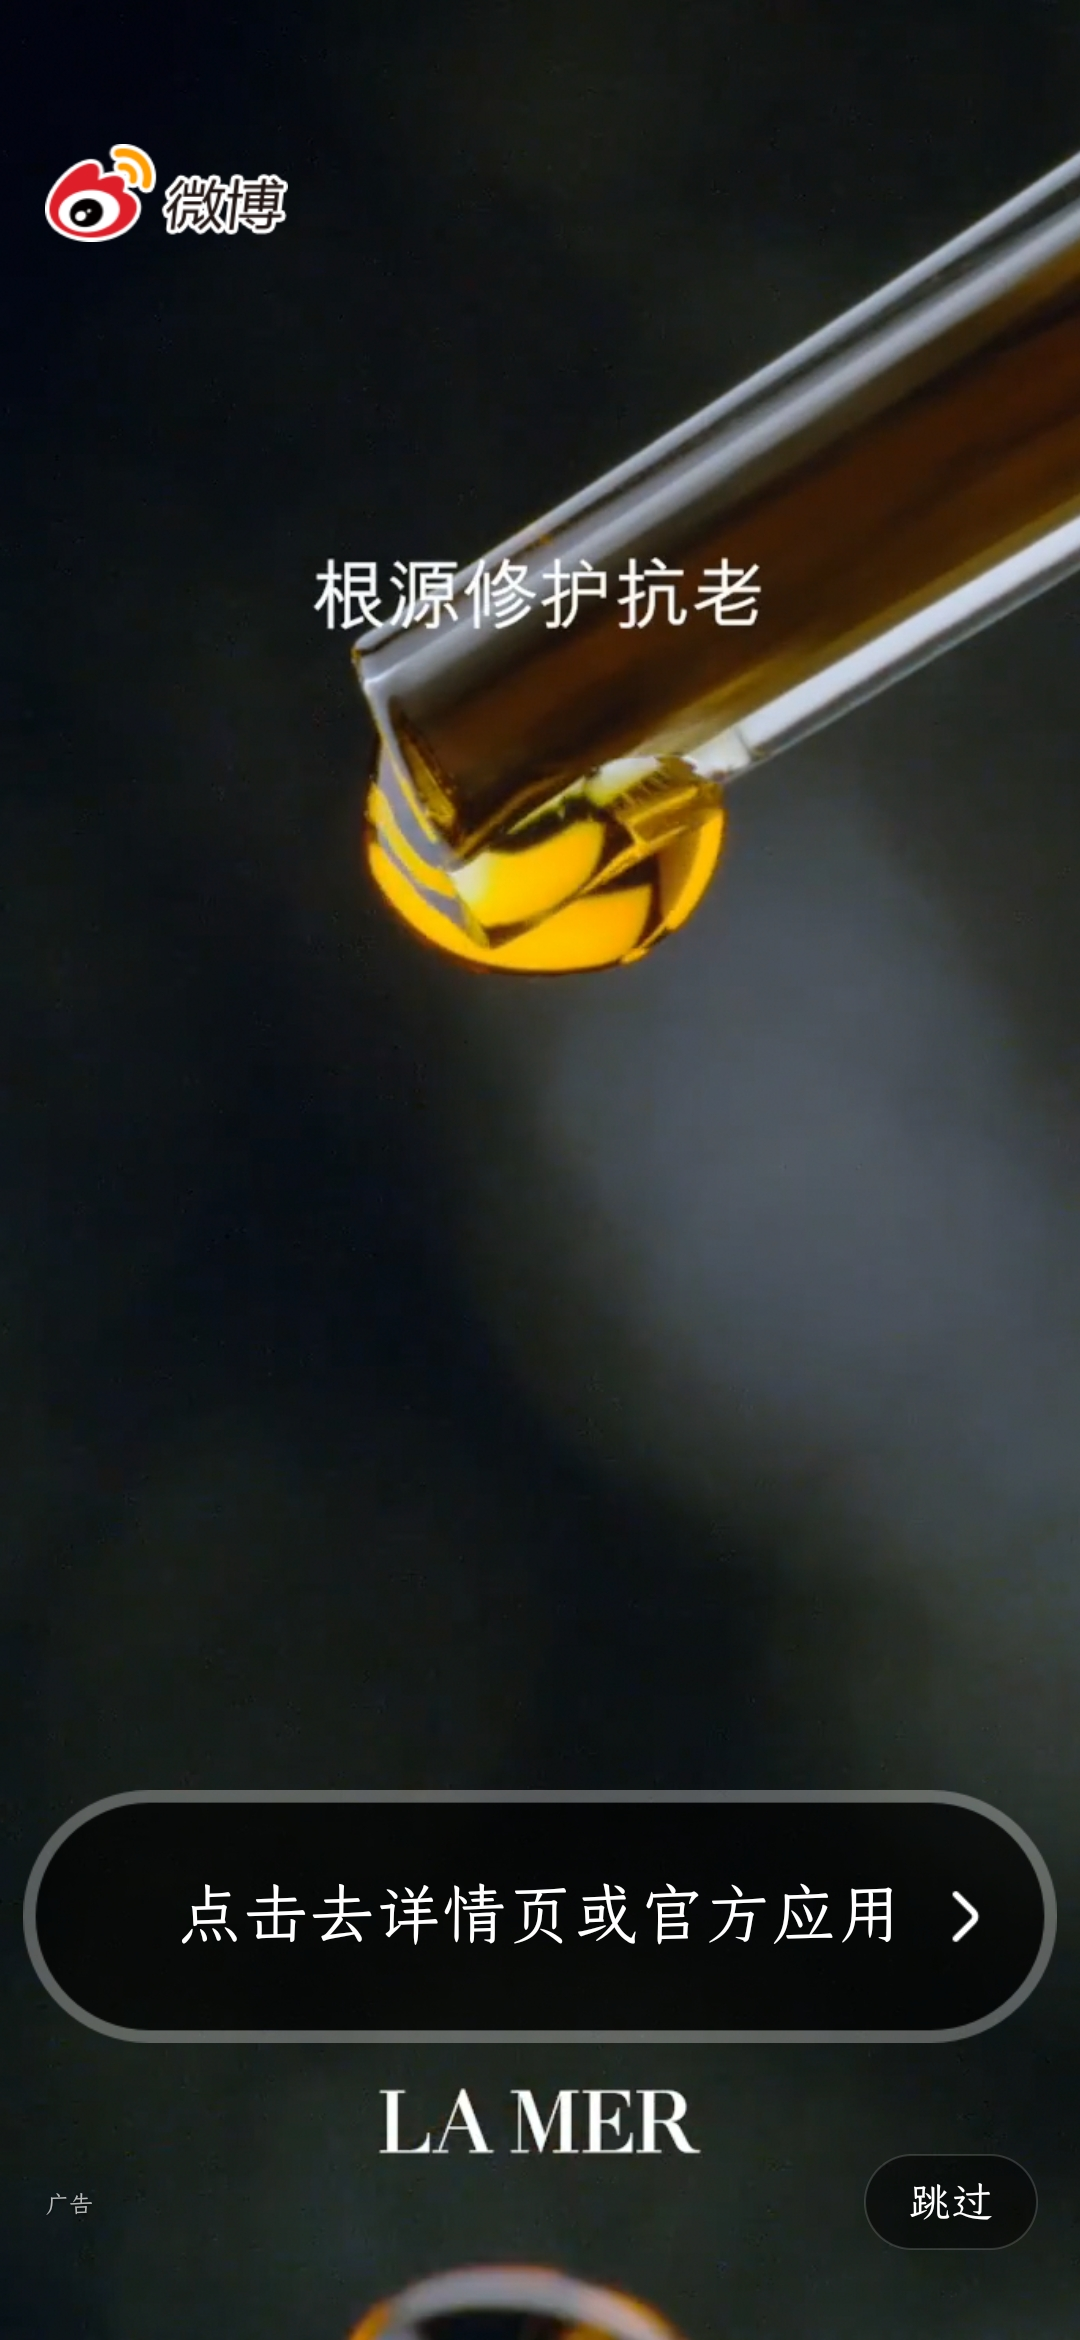skip: (874, 2164, 1016, 2247)
